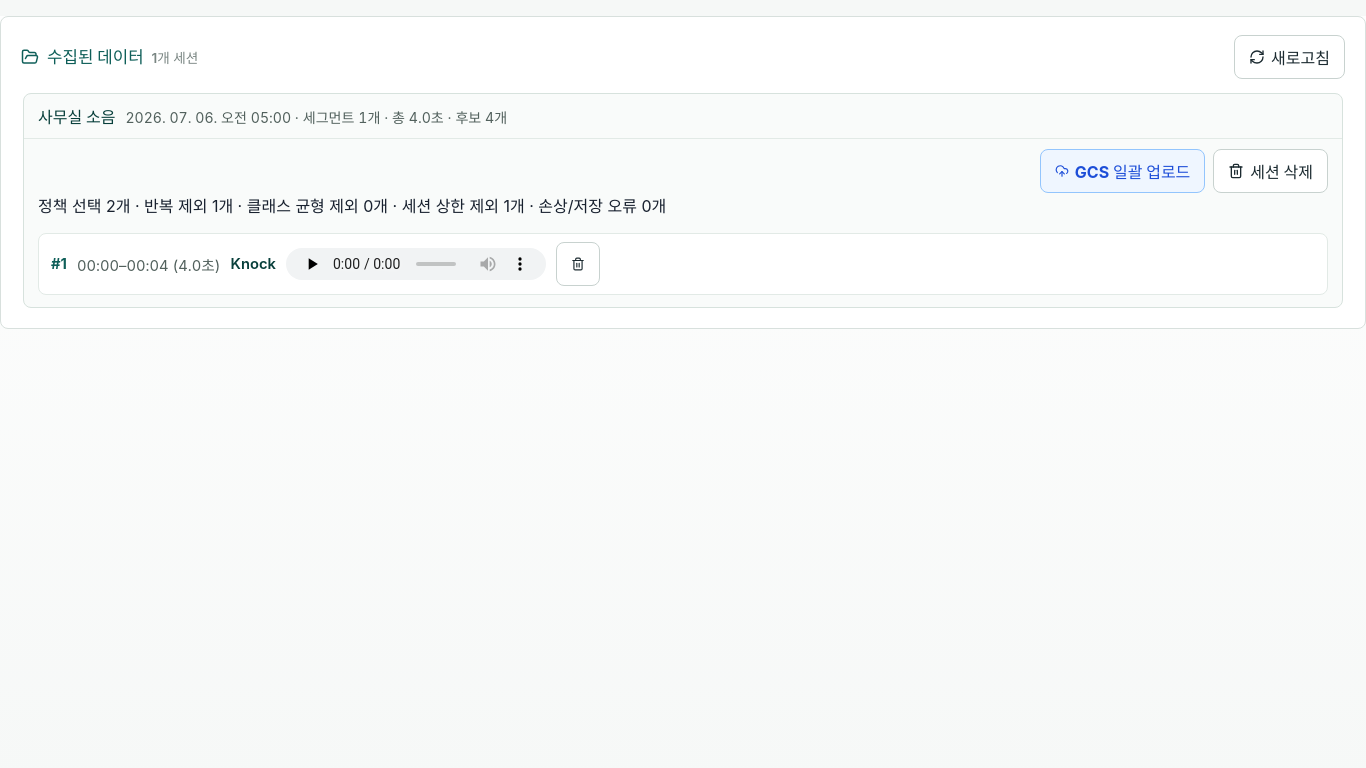
CollectedSessionsPanel › uploads every file in a completed session to GCS
Click the button with aria-label "사무실 소음 세션 GCS 일괄 업로드".
click(1123, 171)  # box [1040,149,1205,193]
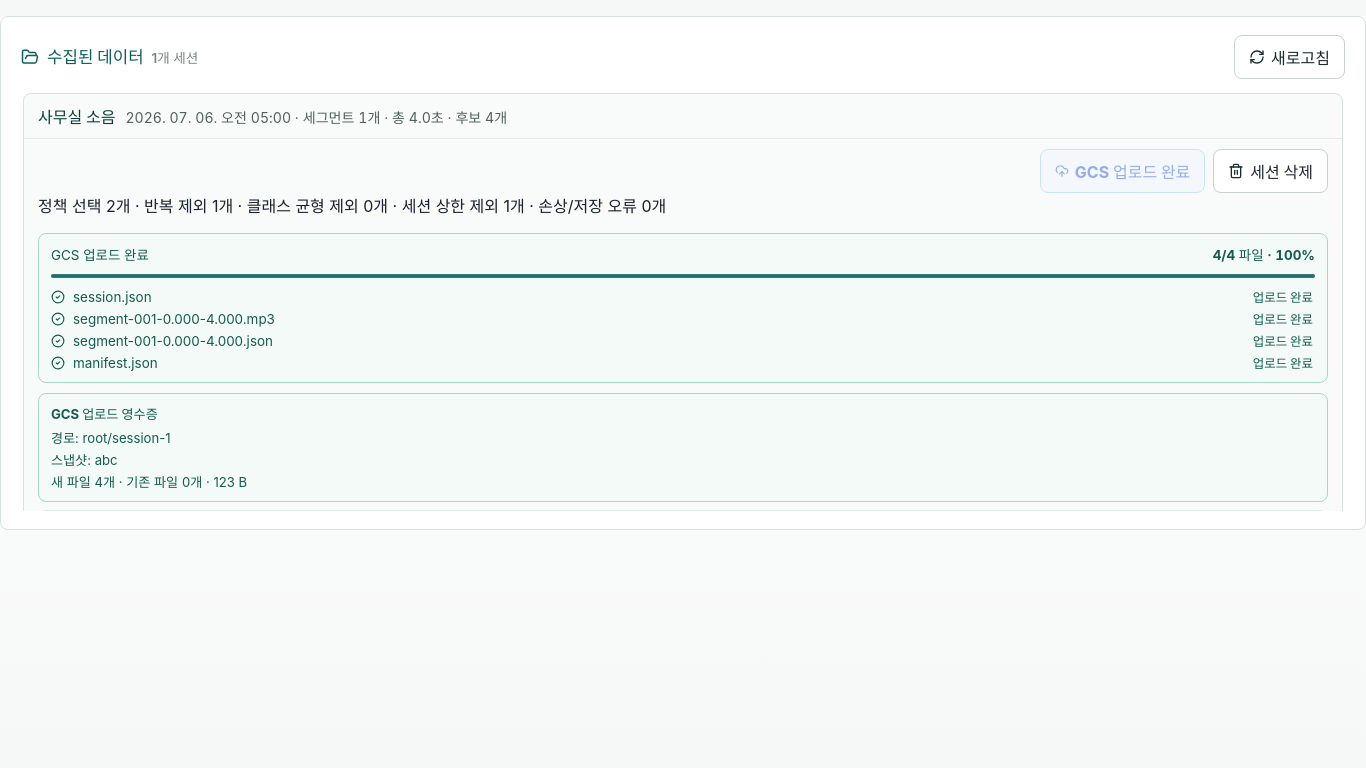
Result: the button with aria-label "사무실 소음 세션 GCS 일괄 업로드" reads "GCS 업로드 완료" at [1040,149,1205,193]
Result: the text "manifest.json" is shown at [73,355,158,371]
Result: the text "GCS 업로드 영수증" is shown at [51,406,158,422]
